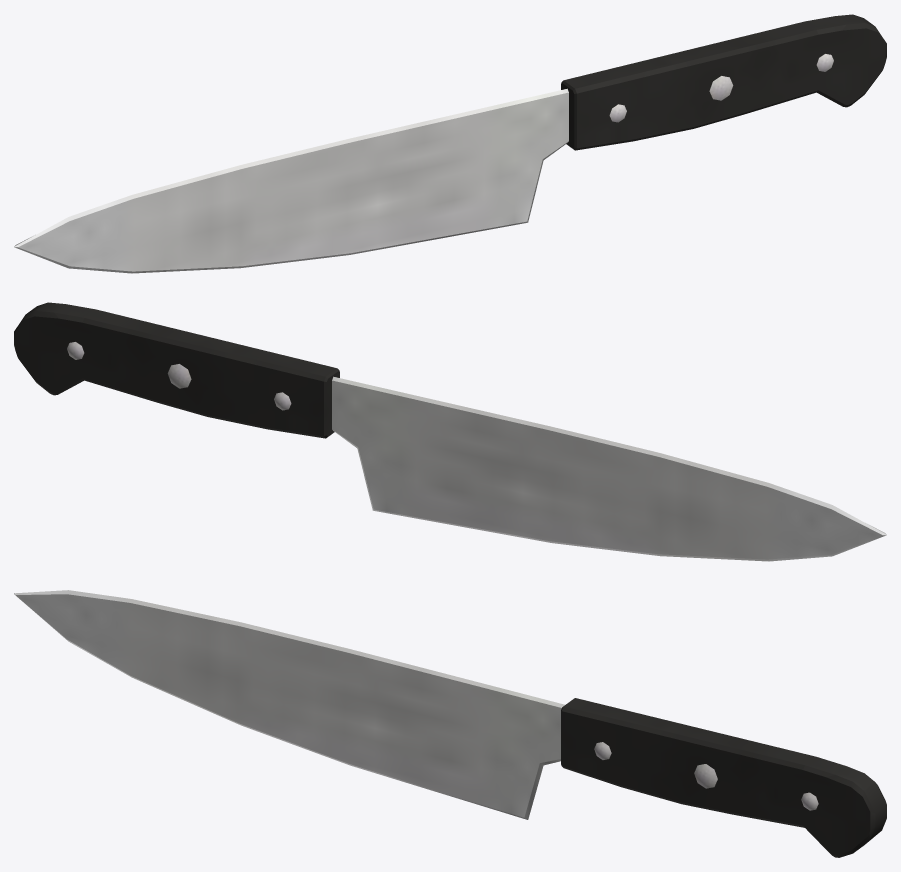
The model's file is kitchen_knife.glb.
The picture shows the model from 3 angles, top to bottom: view 1: azimuth 30°, elevation 25°; view 2: azimuth 150°, elevation 25°; view 3: azimuth 330°, elevation 25°; orthographic projection.
Parts seen in each view (by area): view 1: tool; view 2: tool; view 3: tool.
Part boxes in pixels (box(x1,y1,x2,y2)): tool: box(14, 14, 886, 273); tool: box(14, 302, 886, 561); tool: box(14, 590, 886, 857).
Bounding box in the file's own units: 0.2065 × 0.0291 × 0.00729.
1 material, 1 textured.
